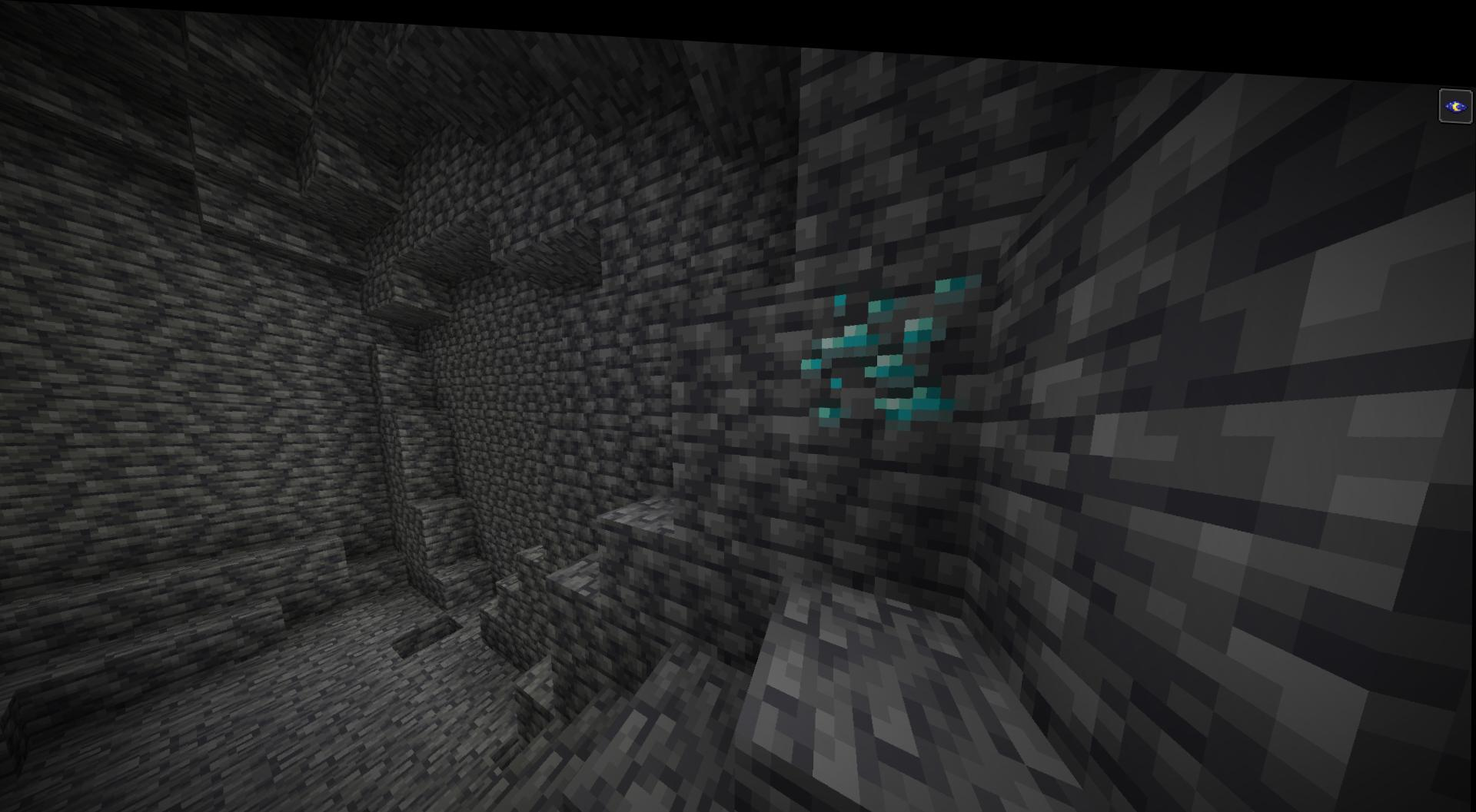diamond ore: (791, 256, 977, 428)
